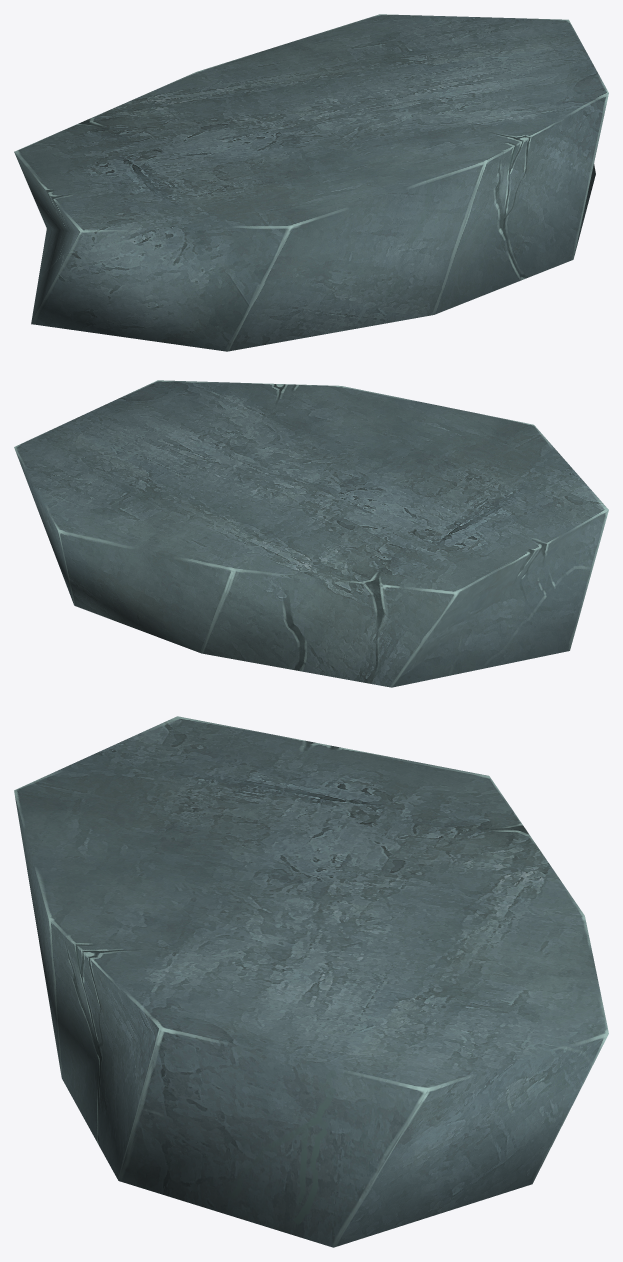
Rendered from Rock_1.fbx.
3 renders of one model, top to bottom at view 1: azimuth 30°, elevation 25°; view 2: azimuth 150°, elevation 25°; view 3: azimuth 270°, elevation 25°, orthographic. The views are drawn at different scales.
Parts seen in each view (by area): view 1: pPlane4; view 2: pPlane4; view 3: pPlane4.
Boxes of the visible parts, bbox=[...] form: pPlane4: bbox=[14, 14, 608, 351]; pPlane4: bbox=[14, 380, 608, 687]; pPlane4: bbox=[14, 716, 608, 1247].
Bounding box in the file's own units: 7.39 × 1.75 × 4.97.
